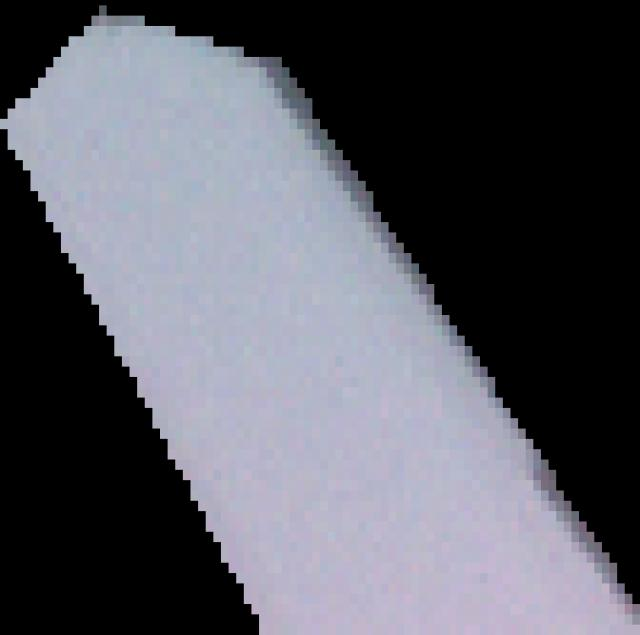curve: (1, 1, 640, 635)
